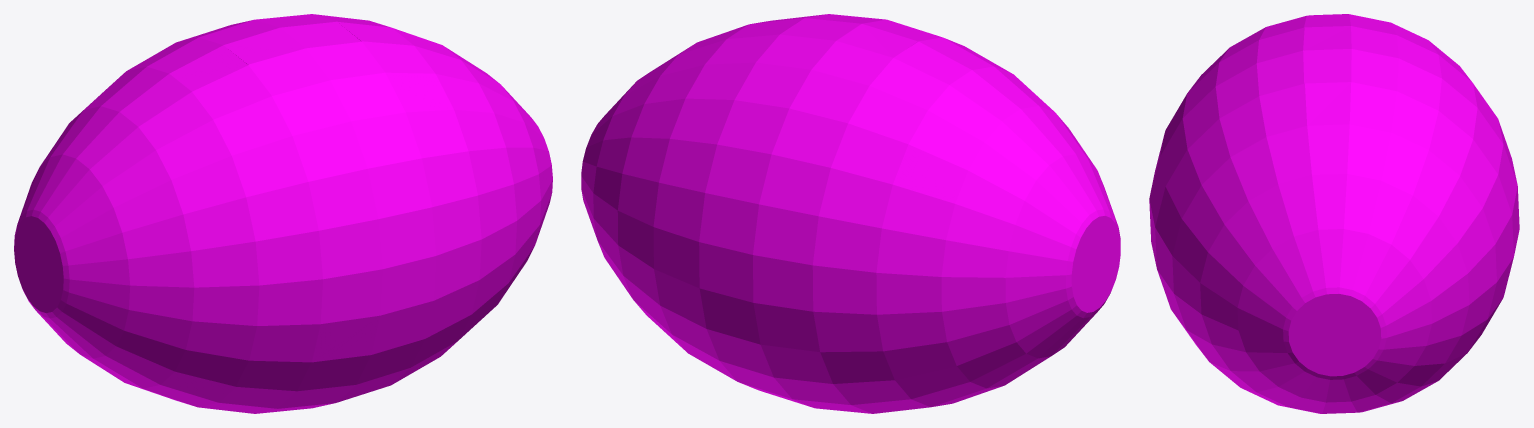
The model's file is 6Orbital_Sigma.glb.
3 views of the same model, side by side, from view 1: azimuth 30°, elevation 25°; view 2: azimuth 150°, elevation 25°; view 3: azimuth 270°, elevation 25° (orthographic). The views are drawn at different scales.
Visible parts, largest first — view 1: root; view 2: root; view 3: root.
Part boxes in pixels (<box>): root: <box>14,14,552,413</box>; root: <box>581,14,1120,413</box>; root: <box>1149,14,1519,413</box>.
Bounding box in the file's own units: 0.4886 × 0.3381 × 0.3383.
